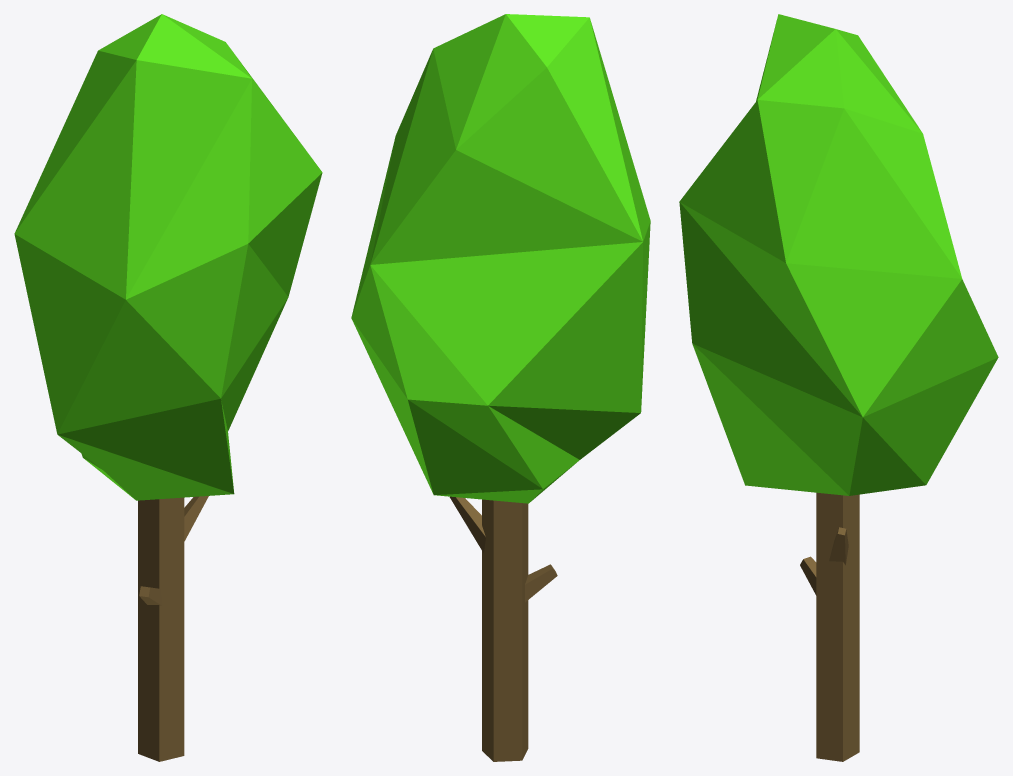
Rendered from Tree02.fbx.
3 renders of one model, left to right at view 1: azimuth 30°, elevation 25°; view 2: azimuth 150°, elevation 25°; view 3: azimuth 270°, elevation 25°, orthographic. The views are drawn at different scales.
Parts seen in each view (by area): view 1: tree2; view 2: tree2; view 3: tree2.
Boxes of the visible parts, box(x1,y1,x2,y2) form: tree2: box(14, 14, 322, 761); tree2: box(351, 14, 650, 761); tree2: box(679, 14, 998, 761).
Bounding box in the file's own units: 248 × 619 × 248.
